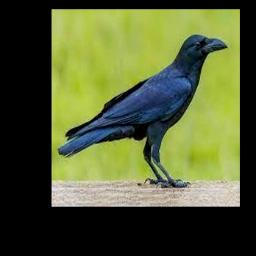Crow: (57, 34, 227, 187)
